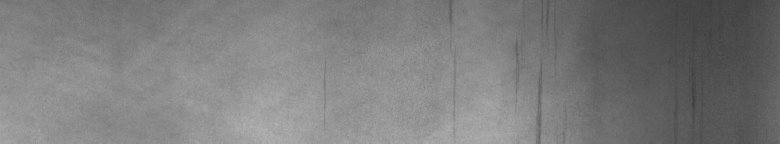ka: (515, 12, 555, 136)
